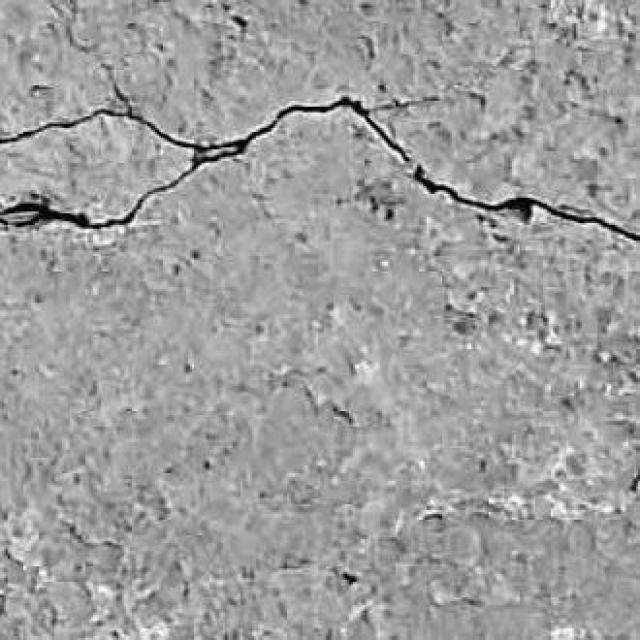crack: (0, 84, 639, 242)
